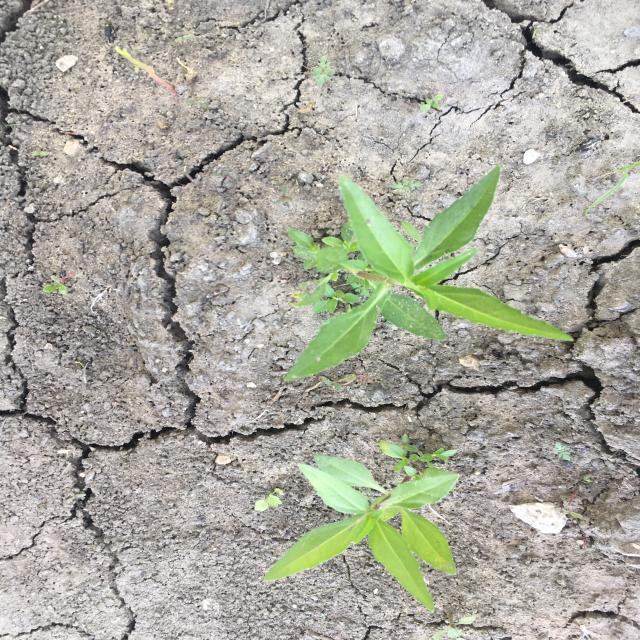Eclipta: (284, 163, 575, 384), (261, 433, 463, 614)
